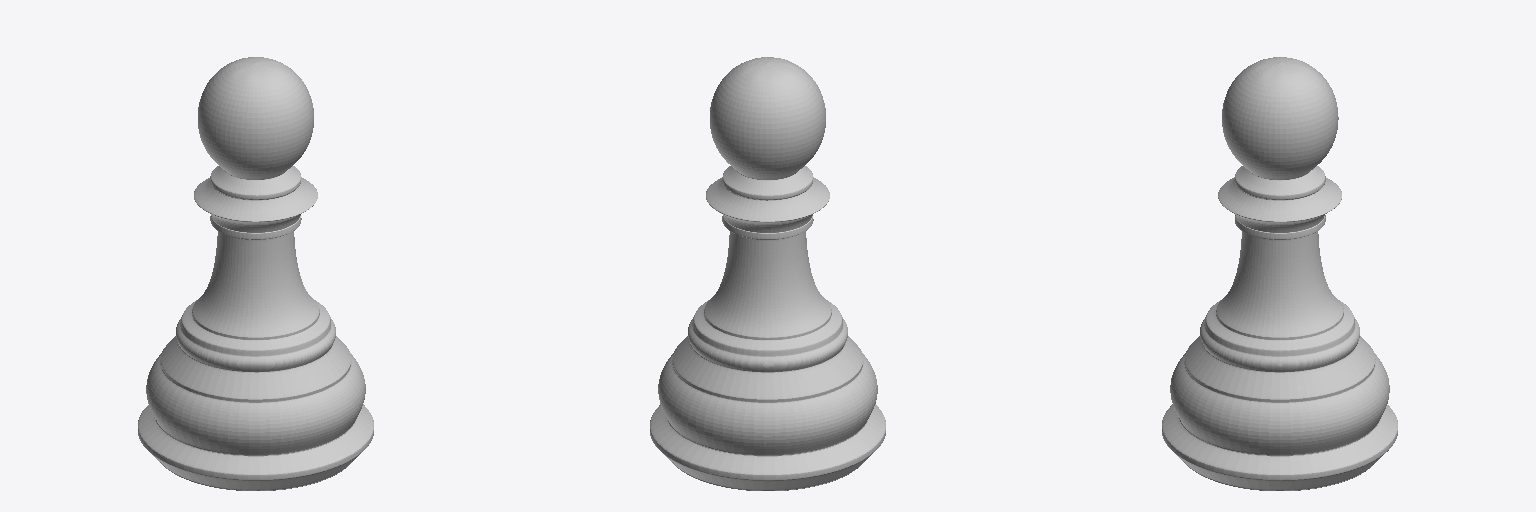
Rendered from pawn.obj.
3 views of the same model, side by side, from view 1: azimuth 30°, elevation 25°; view 2: azimuth 150°, elevation 25°; view 3: azimuth 270°, elevation 25° (orthographic).
Parts seen in each view (by area): view 1: 12931_WoodenChessPawnSideA_v1_l3; view 2: 12931_WoodenChessPawnSideA_v1_l3; view 3: 12931_WoodenChessPawnSideA_v1_l3.
Part boxes in pixels (x1,y1,x2,y2): 12931_WoodenChessPawnSideA_v1_l3: (138, 57, 373, 490); 12931_WoodenChessPawnSideA_v1_l3: (650, 57, 885, 490); 12931_WoodenChessPawnSideA_v1_l3: (1162, 57, 1397, 490).
Size of the model in its own units: 0.1058 by 0.1901 by 0.1058.